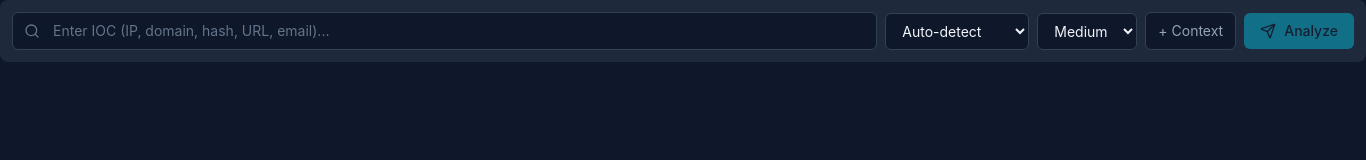
Scenario: IOCInputBar › auto-detects SHA-256 hash type
The width and height of the screenshot is (1366, 160).
Step 1. Type "e3b0c44298fc1c149afbf4c8996fb92427ae41e4649b934ca495991b7852b855" into the field with test id "ioc-value-input" → (445, 31), box 12,12 -> 877,50
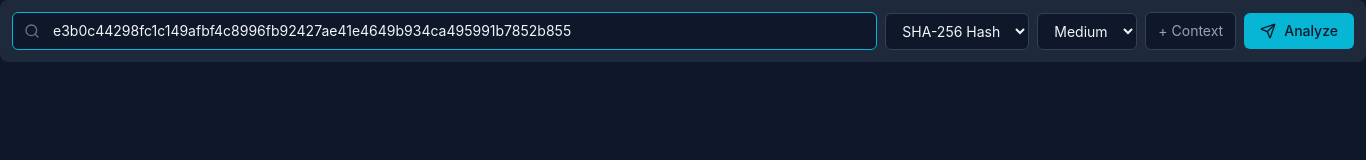
Check: the dropdown with test id "ioc-type-select" shows "SHA-256 Hash", box 885,12 -> 1029,50
